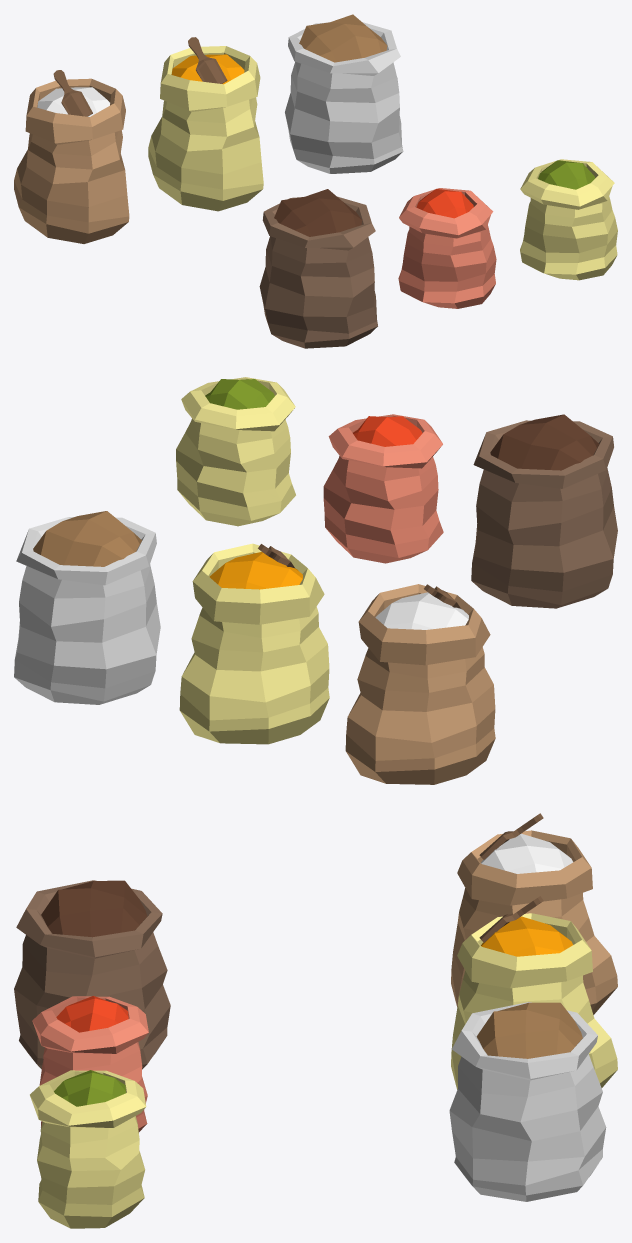
File: part1_sacks-final.fbx
3 views of the same model, one above another, from view 1: azimuth 30°, elevation 25°; view 2: azimuth 150°, elevation 25°; view 3: azimuth 270°, elevation 25° (orthographic). The views are drawn at different scales.
Visible parts, largest first — view 1: spice_sack_03, spice_sack_04, spice_sack_02, spice_sack_01, spice_sack_06, spice_sack_05, scoop_01, scoop_02; view 2: spice_sack_01, spice_sack_02, spice_sack_03, spice_sack_04, spice_sack_05, spice_sack_06; view 3: spice_sack_03, spice_sack_04, spice_sack_06, spice_sack_02, spice_sack_01, spice_sack_05.
Part boxes in pixels (<box>): spice_sack_03: <box>285,14,403,173</box>; spice_sack_04: <box>259,189,377,348</box>; spice_sack_02: <box>148,46,263,211</box>; spice_sack_01: <box>14,78,129,243</box>; spice_sack_06: <box>520,159,617,280</box>; spice_sack_05: <box>398,188,496,308</box>; scoop_01: <box>53,70,92,116</box>; scoop_02: <box>188,37,227,83</box>; spice_sack_01: <box>345,584,495,784</box>; spice_sack_02: <box>179,543,329,744</box>; spice_sack_03: <box>14,511,160,704</box>; spice_sack_04: <box>471,414,617,608</box>; spice_sack_05: <box>323,414,443,563</box>; spice_sack_06: <box>176,377,295,526</box>; spice_sack_03: <box>449,1002,606,1201</box>; spice_sack_04: <box>14,880,170,1069</box>; spice_sack_06: <box>30,1070,146,1228</box>; spice_sack_02: <box>451,913,617,1089</box>; spice_sack_01: <box>451,830,617,1014</box>; spice_sack_05: <box>32,996,148,1132</box>.
Size of the model in its own units: 4.79 by 1.72 by 4.81.
1 material, 1 textured.
